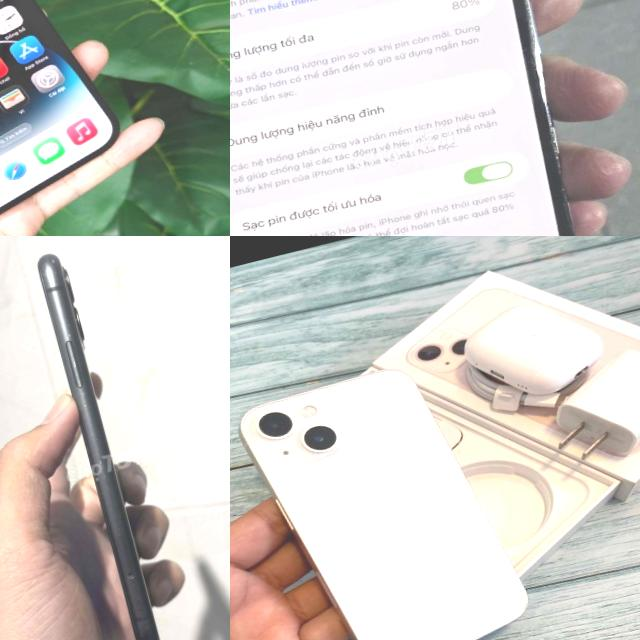gen_11: (13, 236, 188, 640)
gen_12_13: (230, 0, 640, 236), (230, 346, 544, 640)
gen_14: (0, 0, 135, 236)
